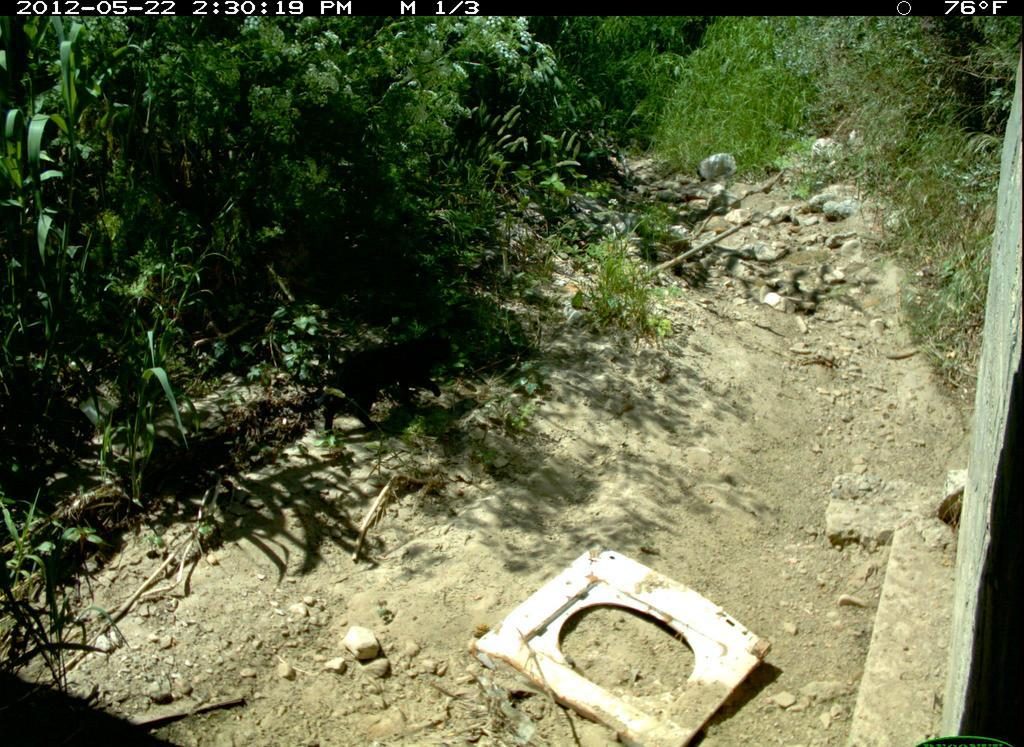cat: (282, 329, 464, 446)
